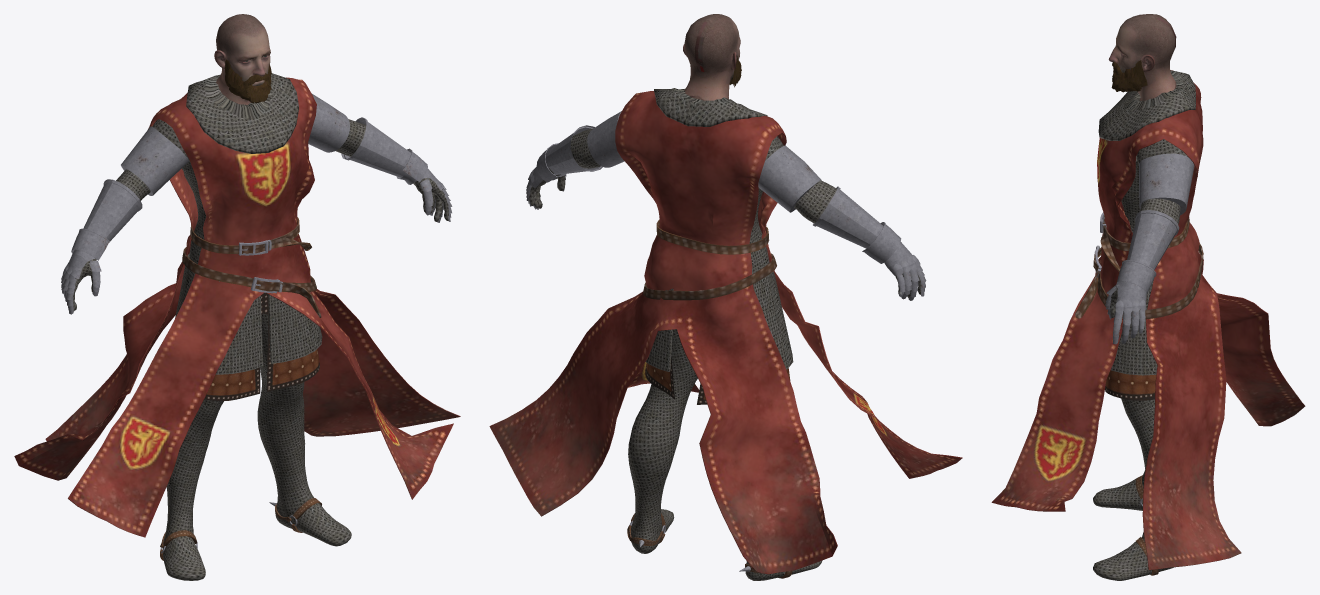
File: hero.glb
The picture shows the model from 3 angles, left to right: view 1: azimuth 30°, elevation 25°; view 2: azimuth 150°, elevation 25°; view 3: azimuth 270°, elevation 25°; orthographic projection. The views are drawn at different scales.
Parts seen in each view (by area): view 1: Rug; view 2: Rug; view 3: Rug.
Boxes of the visible parts, x1=… form: Rug: x1=14, y1=14, x2=460, y2=580; Rug: x1=489, y1=14, x2=962, y2=580; Rug: x1=991, y1=14, x2=1305, y2=580.
Bounding box in the file's own units: 1.69 × 2 × 1.08.
1 material, 1 textured.
